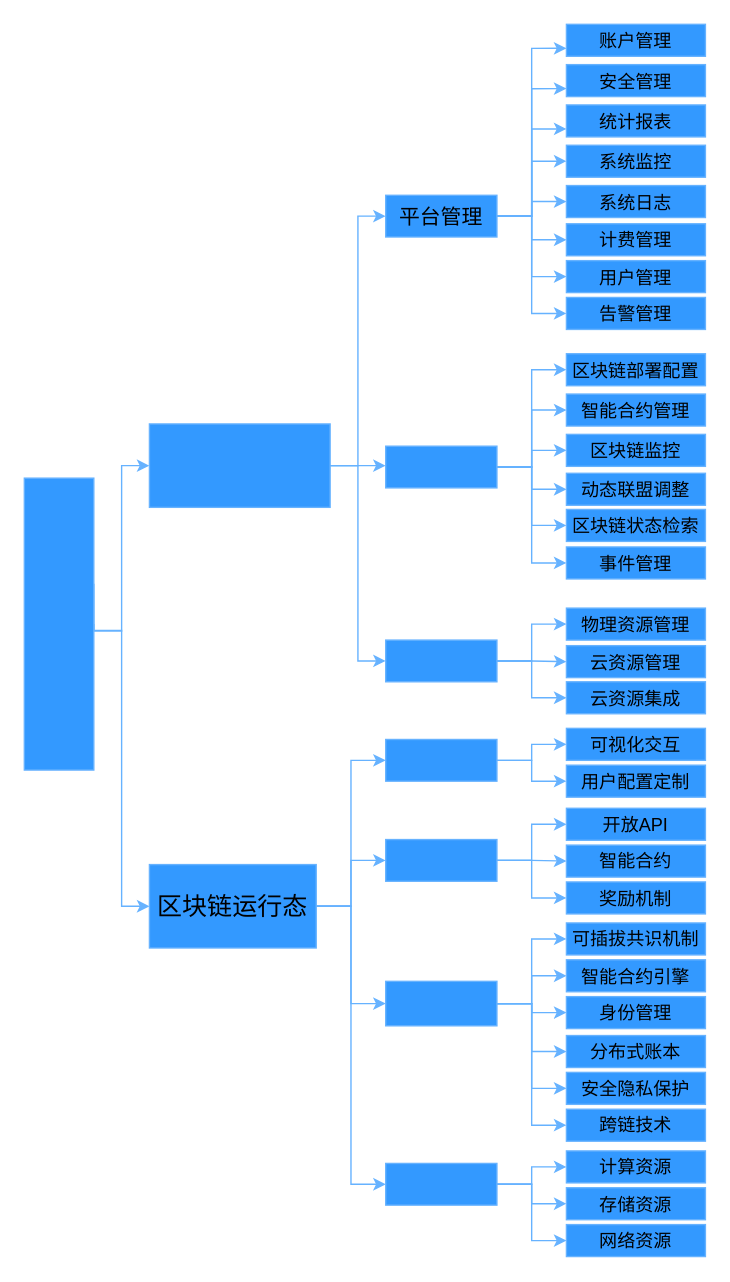
Some shapes in this 730 by 1282 pixel diagram are drawn without their labels. The shapes that lost their labels are listed below. From the top down, each one's box as (x1, y1, x2, y2) in pixels, then its label:
(148, 423, 330, 507): 区块链服务管理平台
(384, 445, 497, 488): 链管理
(23, 477, 94, 770): 系统功能
(384, 639, 497, 682): 资源管理
(384, 738, 497, 781): 应用层
(384, 838, 497, 881): 业务层
(384, 980, 497, 1026): 区块链底层
(384, 1162, 497, 1205): 资源层
